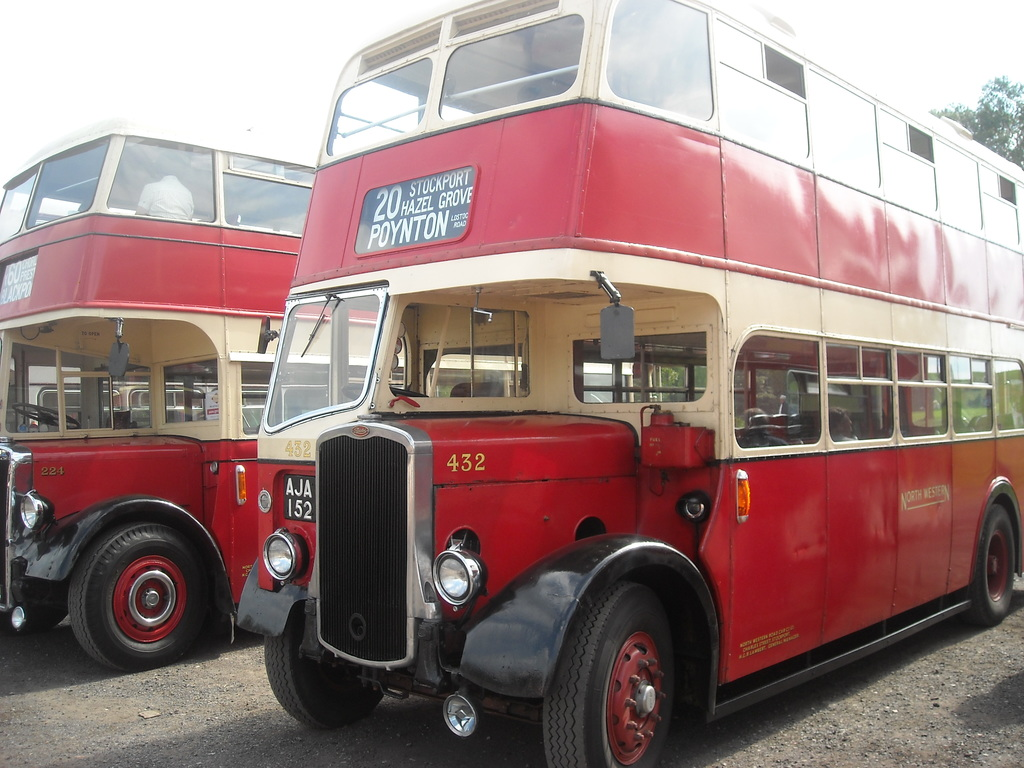Bus: (235, 0, 1024, 767), (0, 116, 652, 671)
